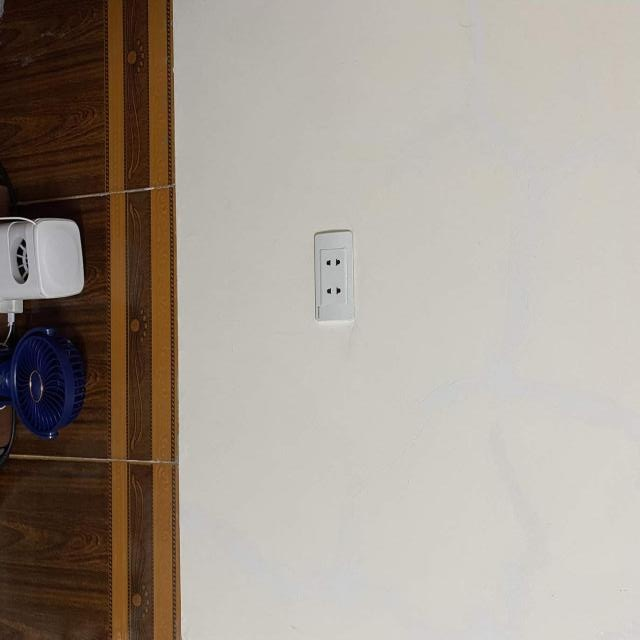outlet: (314, 230, 356, 322)
